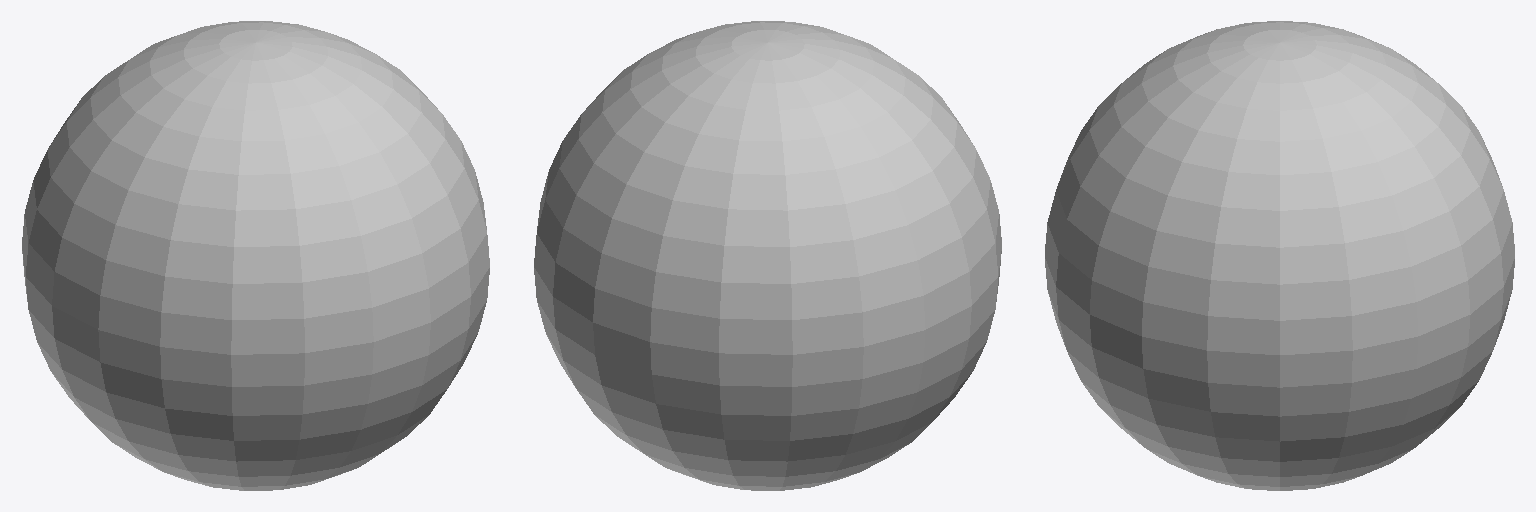
File: Objeto5.obj
3 views of the same model, side by side, from view 1: azimuth 30°, elevation 25°; view 2: azimuth 150°, elevation 25°; view 3: azimuth 270°, elevation 25° (orthographic).
Parts seen in each view (by area): view 1: polySurface145 Librero:polySurface14; view 2: polySurface145 Librero:polySurface14; view 3: polySurface145 Librero:polySurface14.
Part boxes in pixels (left/top/right/bottom): polySurface145 Librero:polySurface14: left=22, top=21, right=489, bottom=490; polySurface145 Librero:polySurface14: left=534, top=21, right=1001, bottom=490; polySurface145 Librero:polySurface14: left=1045, top=21, right=1514, bottom=490.
Bounding box in the file's own units: 0.5045 × 0.5045 × 0.5045.